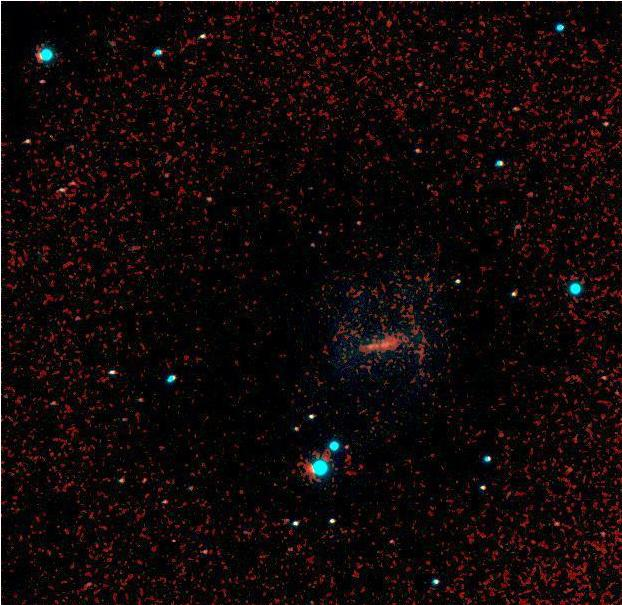star: (602, 376, 622, 406)
